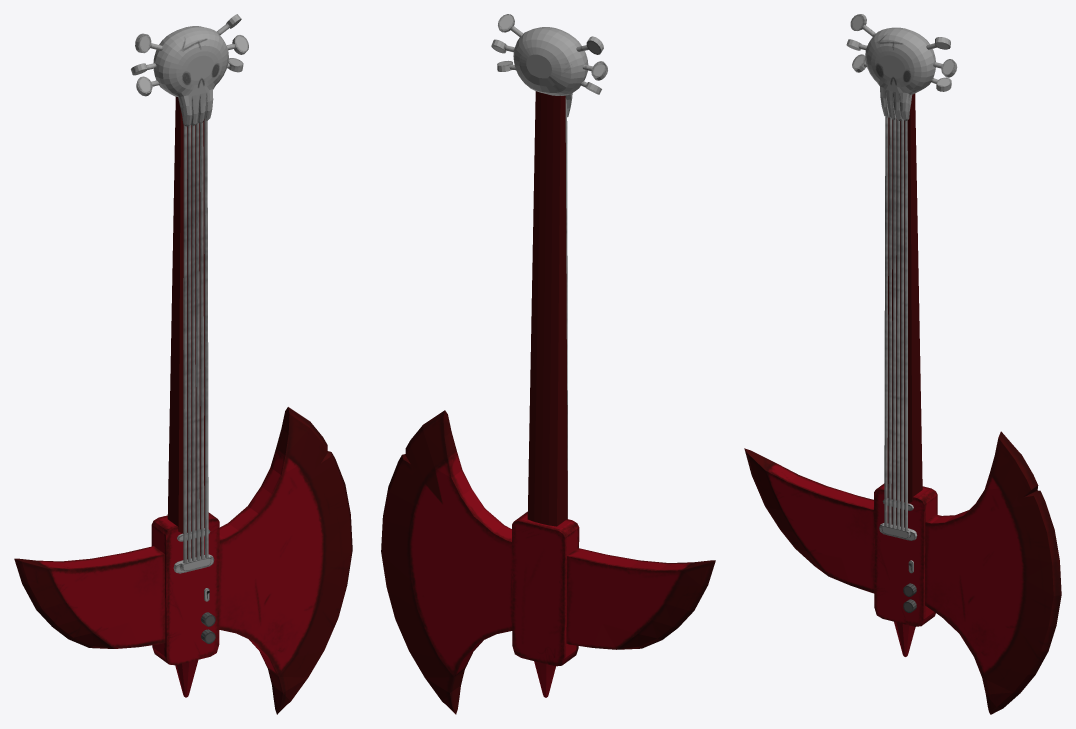
The model's file is marshallguitar.fbx.
The picture shows the model from 3 angles, left to right: view 1: azimuth 30°, elevation 25°; view 2: azimuth 150°, elevation 25°; view 3: azimuth 330°, elevation 25°; orthographic projection. The views are drawn at different scales.
Parts seen in each view (by area): view 1: корпус2, струны, гриф, корпус1, Окружность, колки, порог звук; view 2: корпус2, гриф, корпус1, Окружность, колки, струны; view 3: корпус2, струны, гриф, корпус1, Окружность, колки.
Boxes of the visible parts, left/top/right/bottom form: корпус2: left=14, top=407, right=352, bottom=714; струны: left=183, top=120, right=208, bottom=563; гриф: left=167, top=97, right=204, bottom=559; корпус1: left=151, top=512, right=219, bottom=697; Окружность: left=153, top=26, right=228, bottom=126; колки: left=131, top=14, right=248, bottom=96; порог звук: left=173, top=528, right=214, bottom=573; корпус2: left=381, top=410, right=715, bottom=714; гриф: left=527, top=91, right=567, bottom=526; корпус1: left=512, top=511, right=579, bottom=697; Окружность: left=513, top=27, right=588, bottom=117; колки: left=491, top=14, right=607, bottom=94; струны: left=565, top=98, right=567, bottom=518; корпус2: left=744, top=431, right=1061, bottom=714; струны: left=884, top=114, right=907, bottom=531; гриф: left=887, top=93, right=922, bottom=527; корпус1: left=874, top=483, right=937, bottom=656; Окружность: left=865, top=27, right=935, bottom=121; колки: left=846, top=14, right=957, bottom=91.
Size of the model in its own units: 296 by 599 by 32.91.
